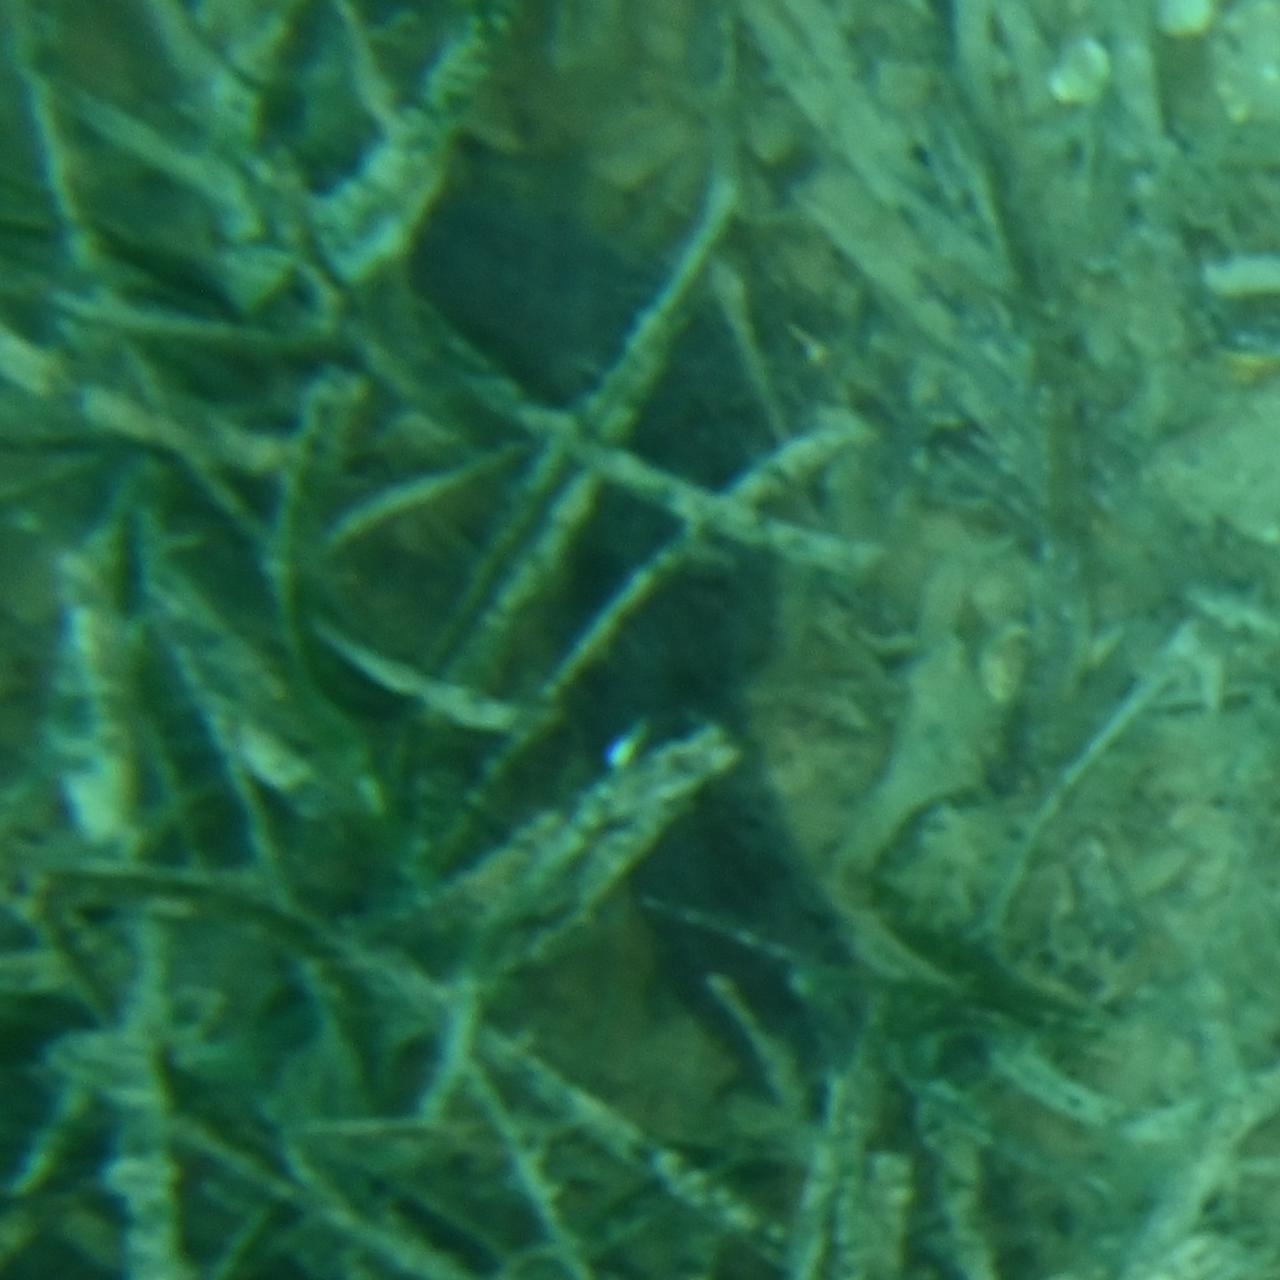Holothuria tubulosa: (404, 164, 876, 1116)
